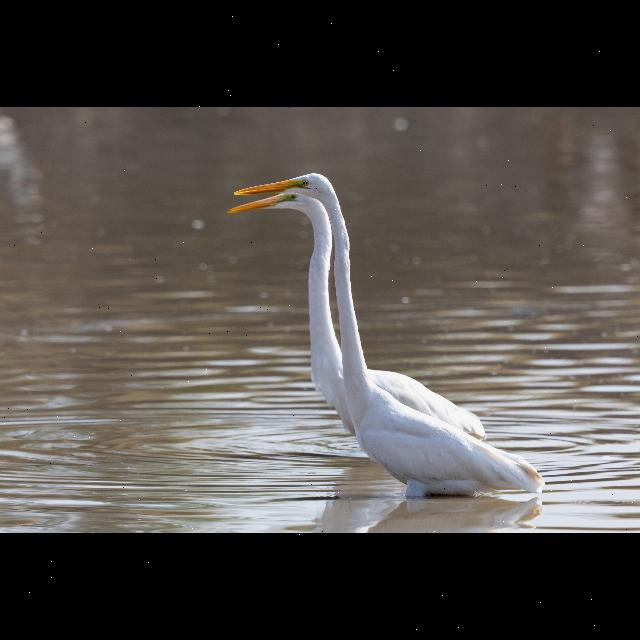egret: (236, 166, 554, 514), (225, 192, 489, 444)
